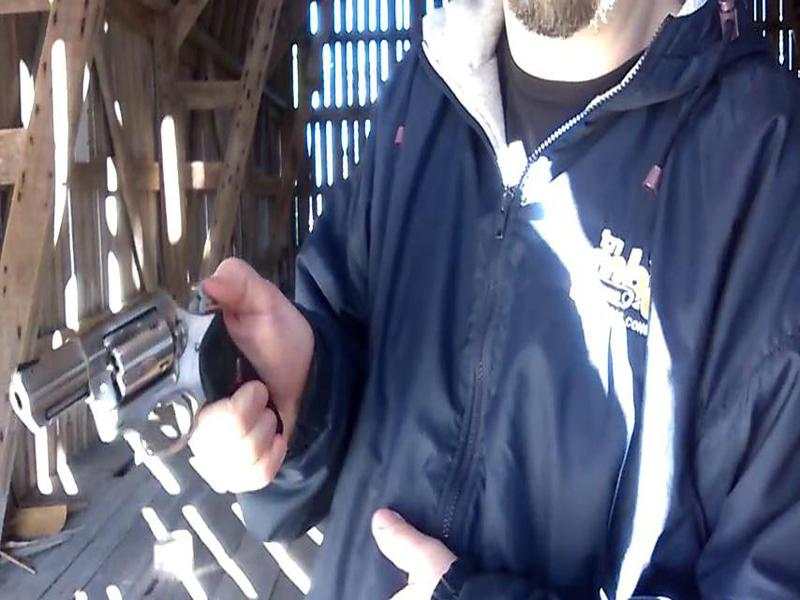Revolver: (1, 292, 294, 482)
